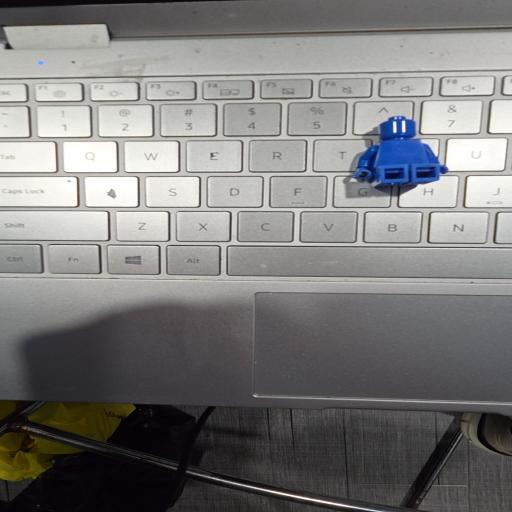Blue: (353, 116, 448, 186)
